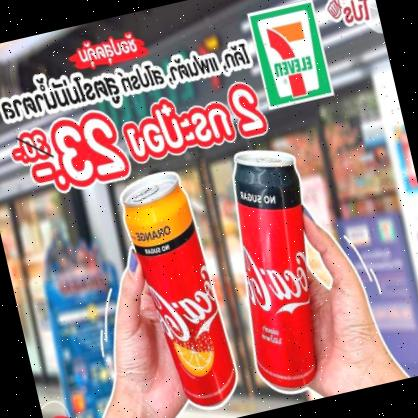can: (205, 137, 347, 404), (114, 163, 247, 418)
